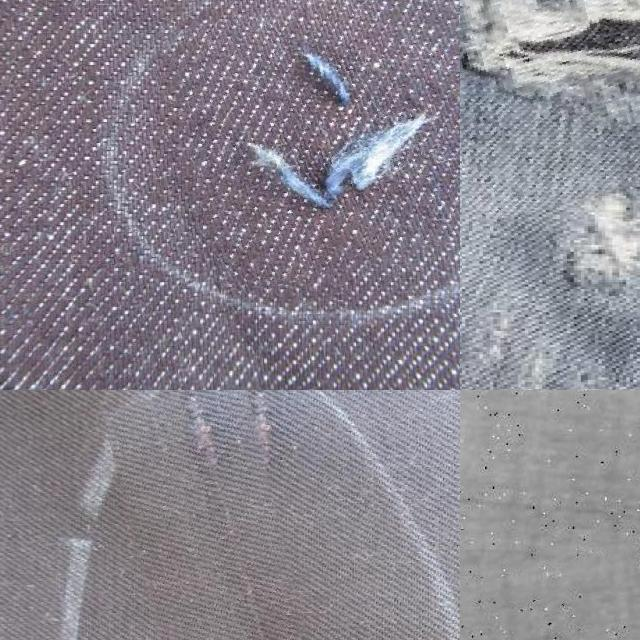other: (460, 0, 640, 197), (460, 552, 640, 640)
stains: (174, 0, 460, 283), (135, 390, 348, 640)
